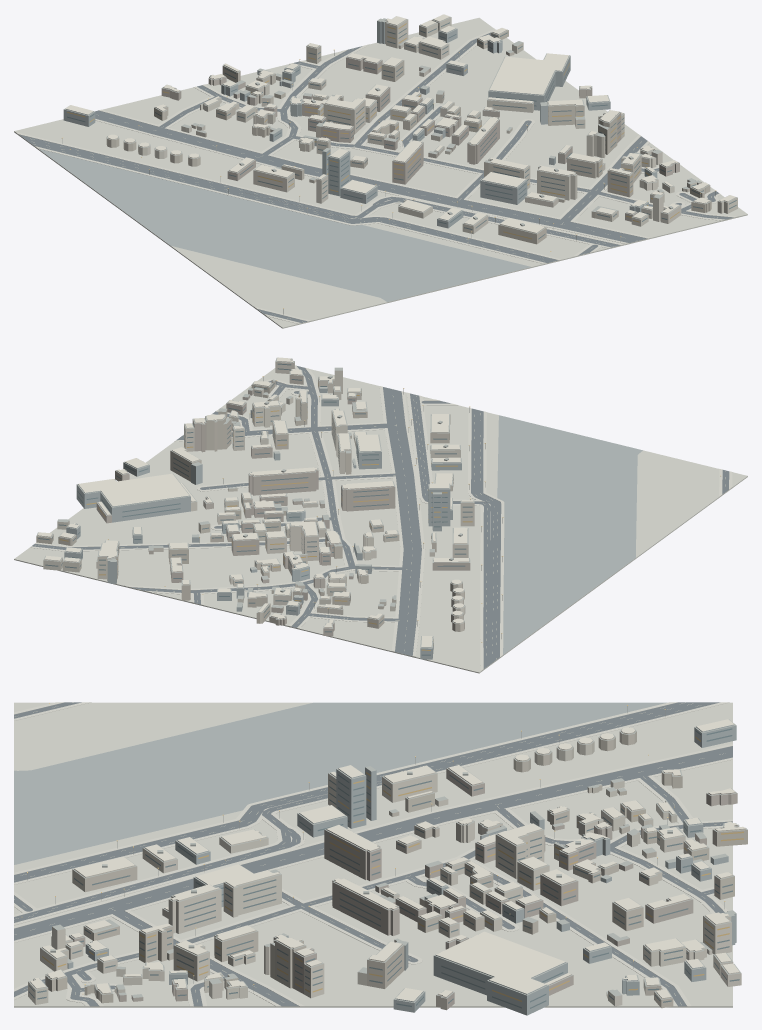
The picture shows the model from 3 angles, top to bottom: view 1: azimuth 30°, elevation 25°; view 2: azimuth 150°, elevation 25°; view 3: azimuth 270°, elevation 25°; orthographic projection. The views are drawn at different scales.
Parts seen in each view (by area): view 1: city; view 2: city; view 3: city.
Boxes of the visible parts, x1,y1,x2,y2 form: city: (14,14,747,328); city: (14,357,747,673); city: (14,702,747,1015).
Bounding box in the file's own units: 515 × 39.65 × 510.
